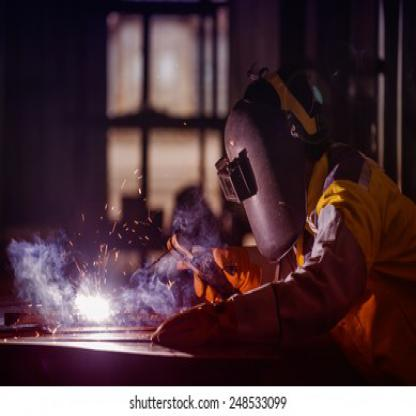with_gloves: (150, 282, 282, 345), (180, 244, 263, 296)
